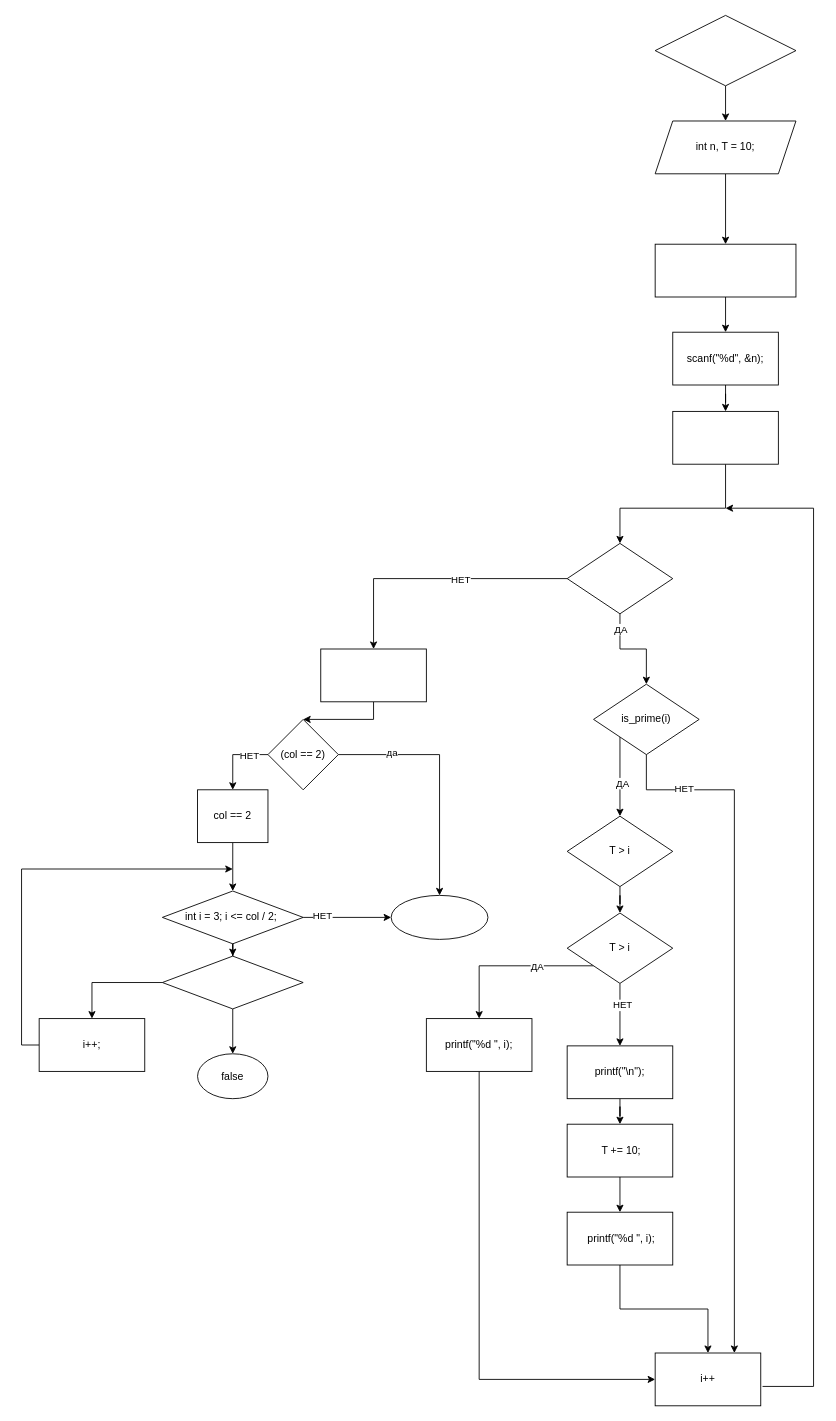
The diagram is 836 pixels wide and 1421 high, and some of its shapes have lost their labels. The box of each missing label's shape, as (x1, y1, x2, y2) in pixels:
bool is_prime(int col): (320, 648, 426, 702)
col % i == 0: (161, 955, 303, 1009)
i <= n: (566, 543, 673, 614)
int i = 2;: (672, 411, 778, 464)
int main(): (654, 15, 796, 86)
printf("Введите число n: ");: (654, 243, 796, 297)
true: (390, 895, 488, 939)
